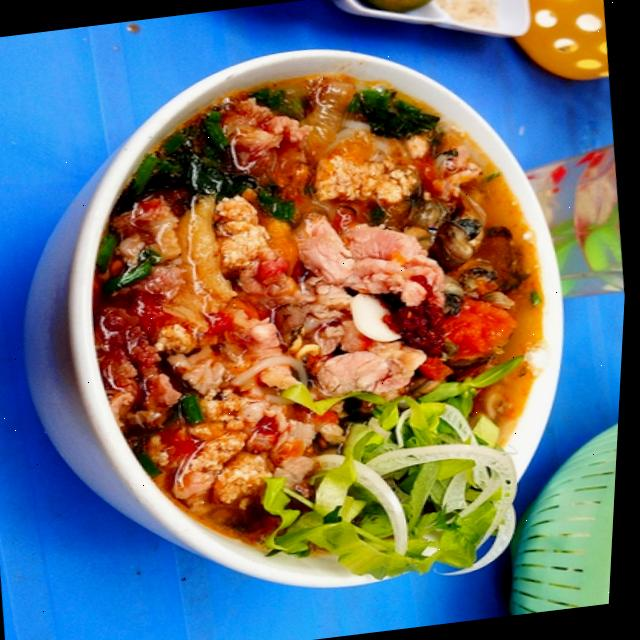面条主食: (5, 7, 636, 622)
